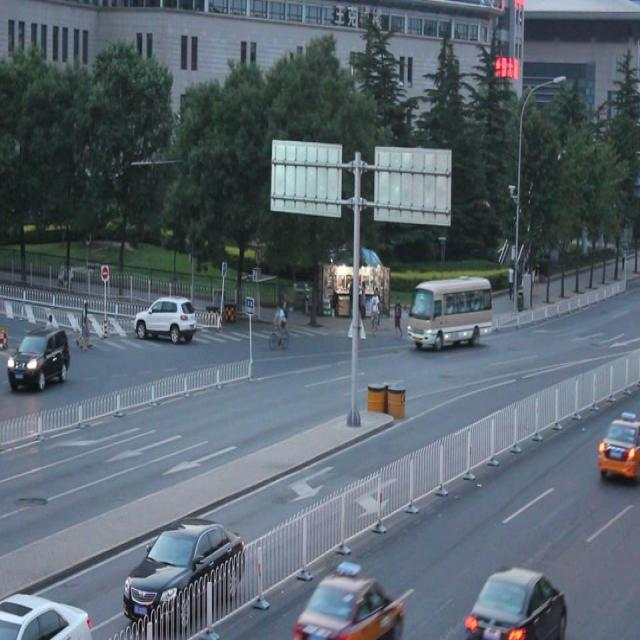car: (123, 519, 245, 633), (294, 569, 404, 640), (463, 566, 564, 640), (1, 324, 71, 388), (0, 592, 92, 640), (134, 293, 196, 343), (594, 415, 640, 476)
truck: (406, 276, 491, 346)
